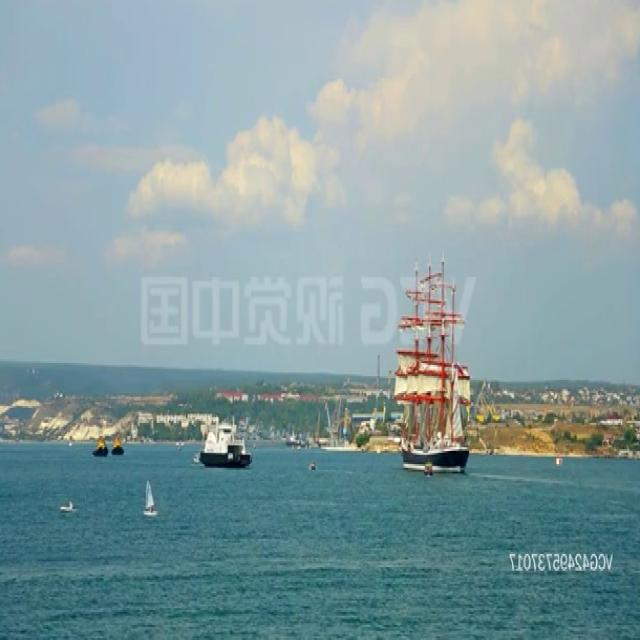houseboat: (203, 416, 253, 465), (114, 427, 124, 459), (94, 433, 107, 457), (58, 499, 76, 515), (422, 462, 435, 476), (308, 460, 317, 470)
sailboat: (394, 253, 471, 470), (142, 477, 159, 520)
